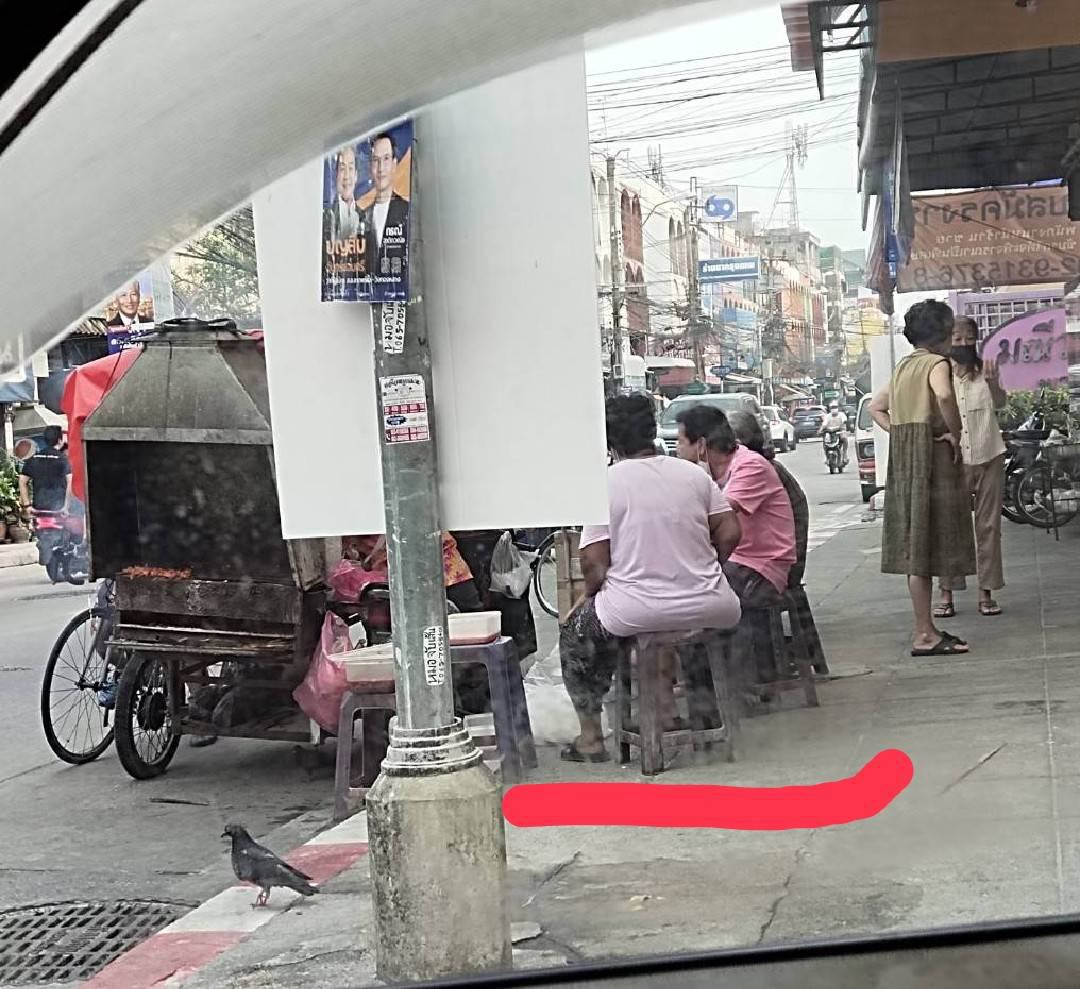Banner: (307, 112, 419, 305)
